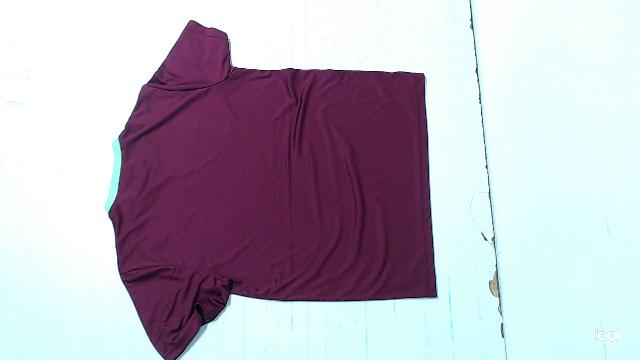new-garment: (107, 21, 436, 360)
